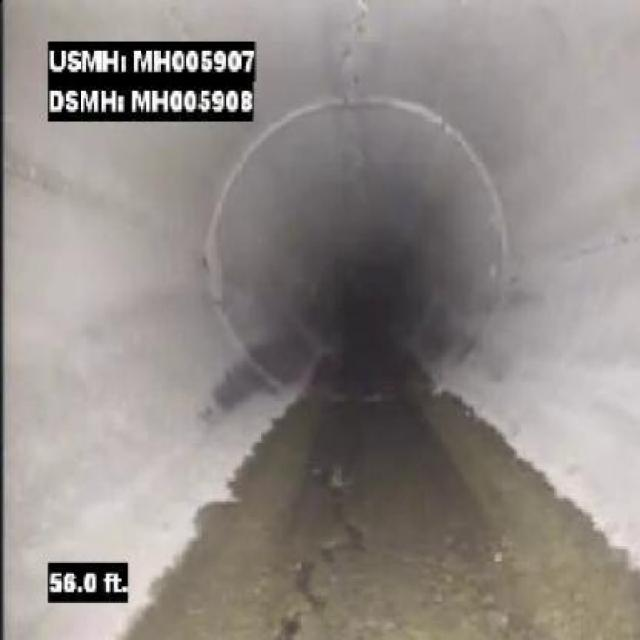Crack: (282, 418, 366, 636), (326, 5, 388, 101), (548, 235, 638, 268)
